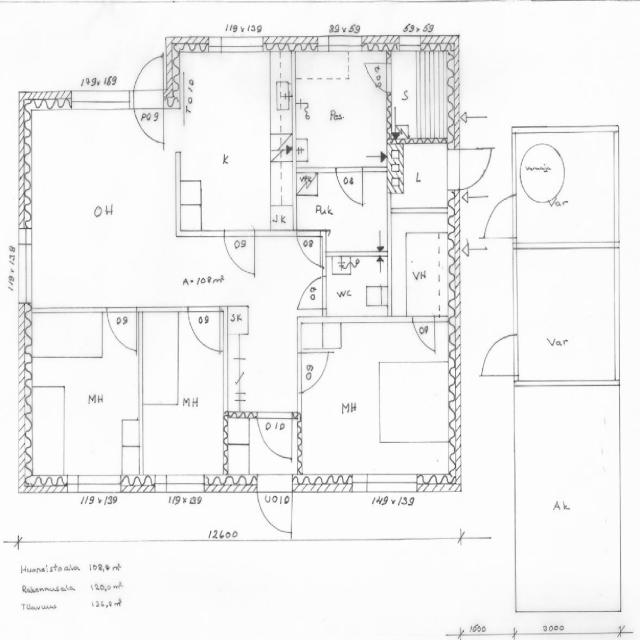door: (130, 50, 167, 144), (449, 139, 496, 195), (256, 409, 296, 463), (480, 330, 521, 380), (256, 483, 294, 536), (185, 304, 224, 355), (482, 191, 520, 243), (221, 226, 257, 278), (104, 306, 140, 355), (333, 163, 367, 209), (133, 104, 167, 148), (297, 351, 330, 393), (296, 274, 327, 314), (362, 54, 393, 94), (410, 313, 439, 355), (296, 230, 324, 267)
window: (14, 222, 38, 308), (68, 89, 134, 117), (208, 34, 266, 58), (71, 477, 121, 498), (325, 34, 363, 52)
zone: (21, 102, 187, 311), (298, 316, 454, 484), (512, 386, 620, 616), (456, 0, 640, 130), (177, 47, 292, 236), (25, 310, 141, 494), (140, 307, 227, 488), (515, 248, 617, 384), (514, 128, 618, 249), (293, 47, 389, 170), (298, 172, 388, 255), (389, 212, 456, 320), (388, 42, 457, 144), (390, 141, 453, 217), (325, 253, 390, 317), (316, 165, 378, 218)
